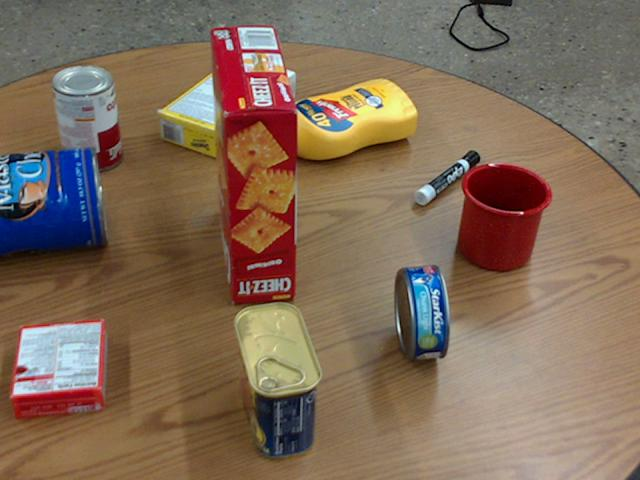cracker_box: (206, 26, 297, 303)
gelatin_box: (12, 319, 107, 417)
large_marker: (414, 150, 480, 204)
master_chef_can: (0, 145, 106, 257)
mug: (457, 161, 551, 269)
mustard_bottle: (260, 80, 417, 158)
potted_meat_can: (233, 302, 323, 459)
sugar_box: (158, 52, 295, 159)
tomato_soup_can: (51, 65, 121, 172)
tuna_fish_can: (396, 263, 448, 359)
